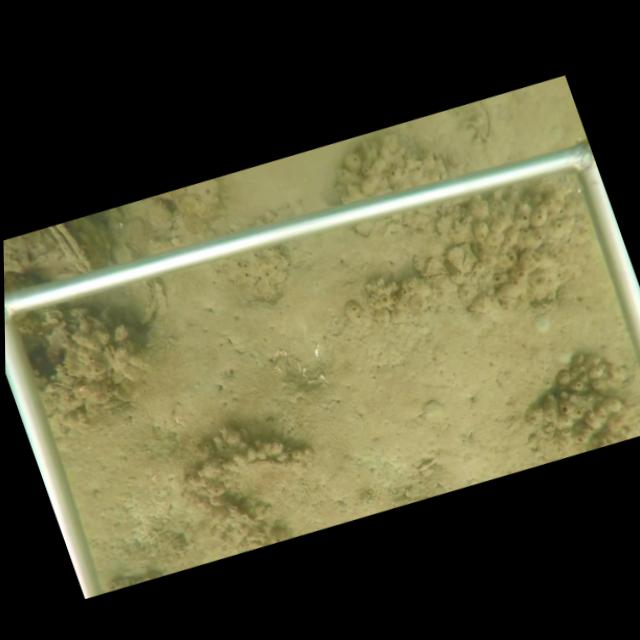Oyster-Closed: (223, 497, 263, 529)
Oyster-Open: (49, 222, 98, 273)
